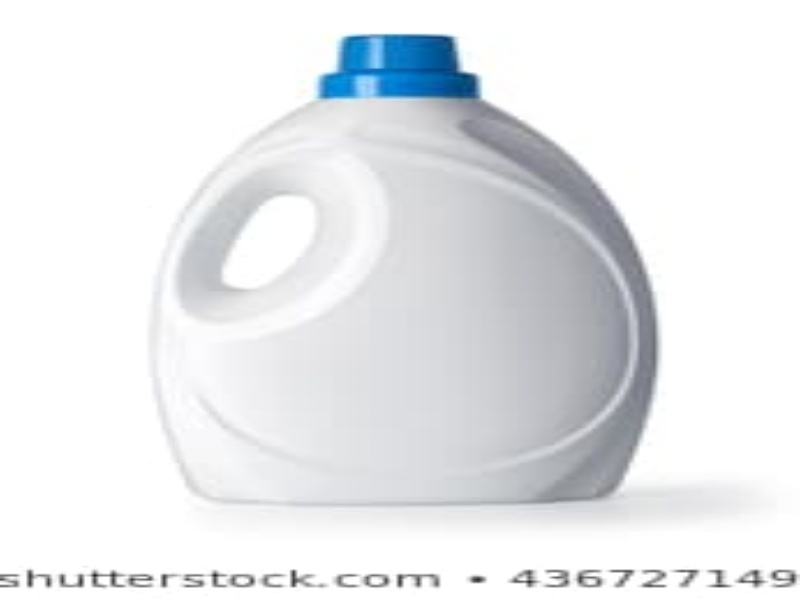detergent-bottle: (143, 27, 666, 523)
